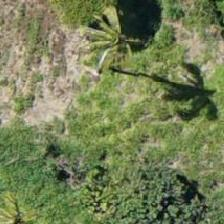coconut_tree: (64, 2, 154, 92)
